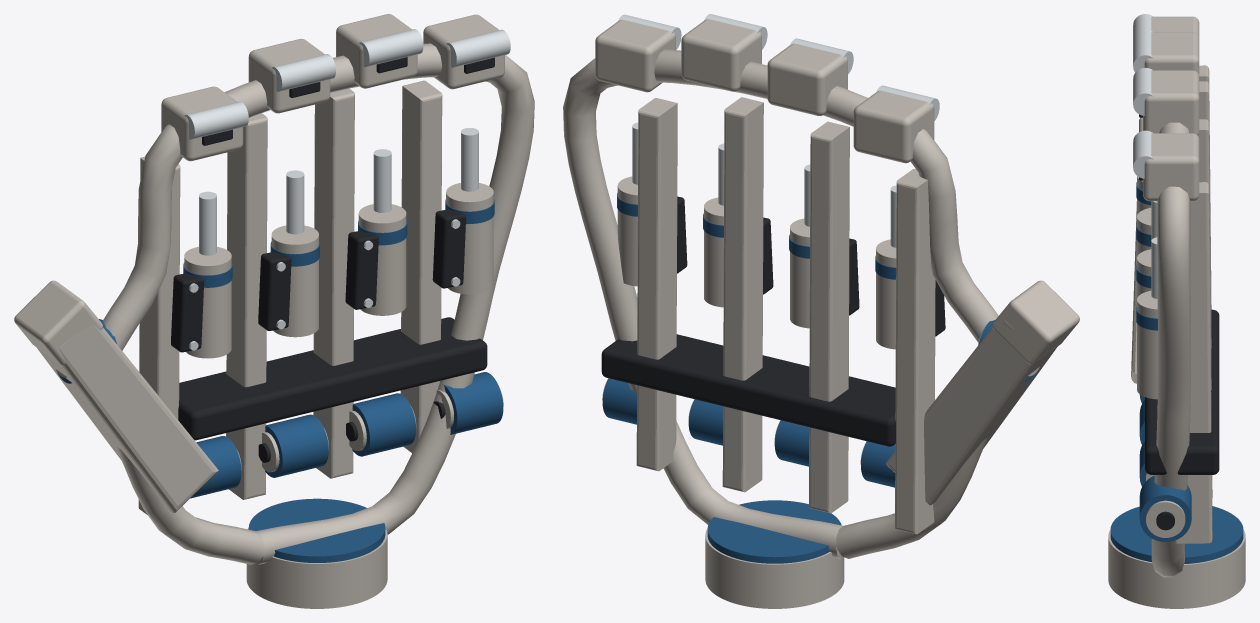
Rendered from anatomy-11.glb.
The picture shows the model from 3 angles, left to right: view 1: azimuth 30°, elevation 25°; view 2: azimuth 150°, elevation 25°; view 3: azimuth 270°, elevation 25°; orthographic projection. The views are drawn at different scales.
Parts seen in each view (by area): view 1: frame, thumb, brace, actuators, fingers, drives, mount, drive-guards, pivots, rods; view 2: frame, fingers, brace, thumb, mount, actuators, drives, drive-guards, pivots, rods; view 3: frame, mount, fingers, actuators, brace, drives, pivots, thumb, rods.
Boxes of the visible parts, x1,y1,x2,y2 form: frame: (102, 43, 534, 564); thumb: (14, 280, 218, 513); brace: (178, 317, 487, 440); actuators: (183, 183, 494, 358); fingers: (161, 14, 504, 161); drives: (190, 372, 503, 498); mount: (246, 498, 387, 608); drive-guards: (171, 209, 465, 352); pivots: (55, 29, 510, 383); rods: (199, 128, 478, 255); frame: (563, 49, 998, 558); fingers: (595, 19, 934, 163); brace: (601, 334, 895, 446); thumb: (885, 280, 1079, 505); mount: (705, 500, 844, 608); actuators: (617, 176, 896, 349); drives: (602, 378, 895, 487); drive-guards: (677, 196, 945, 336); pivots: (618, 14, 1039, 381); rods: (632, 122, 896, 247); frame: (1151, 65, 1212, 577); mount: (1108, 506, 1245, 608); fingers: (1139, 16, 1199, 201); actuators: (1136, 176, 1157, 399); brace: (1145, 309, 1219, 474); drives: (1139, 394, 1191, 541); pivots: (1133, 14, 1153, 178); thumb: (1131, 117, 1142, 383); rods: (1151, 201, 1157, 298).
Bounding box in the file's own units: 2.06 × 2.11 × 0.498.
